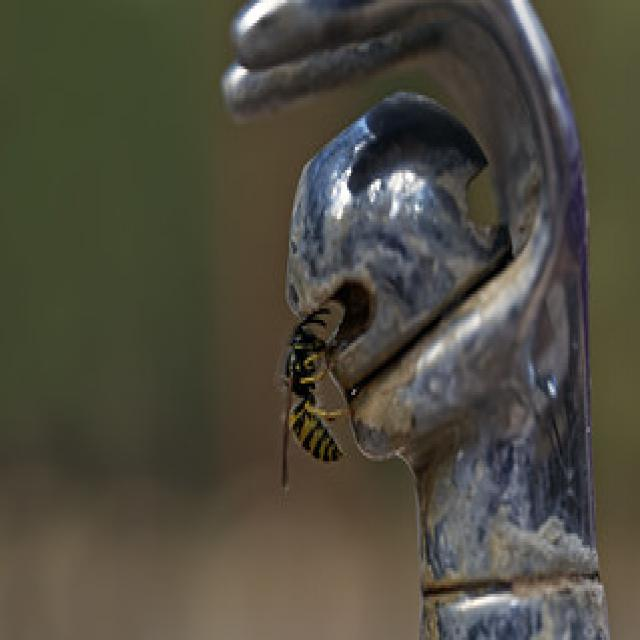Guepe: (274, 302, 364, 486)
